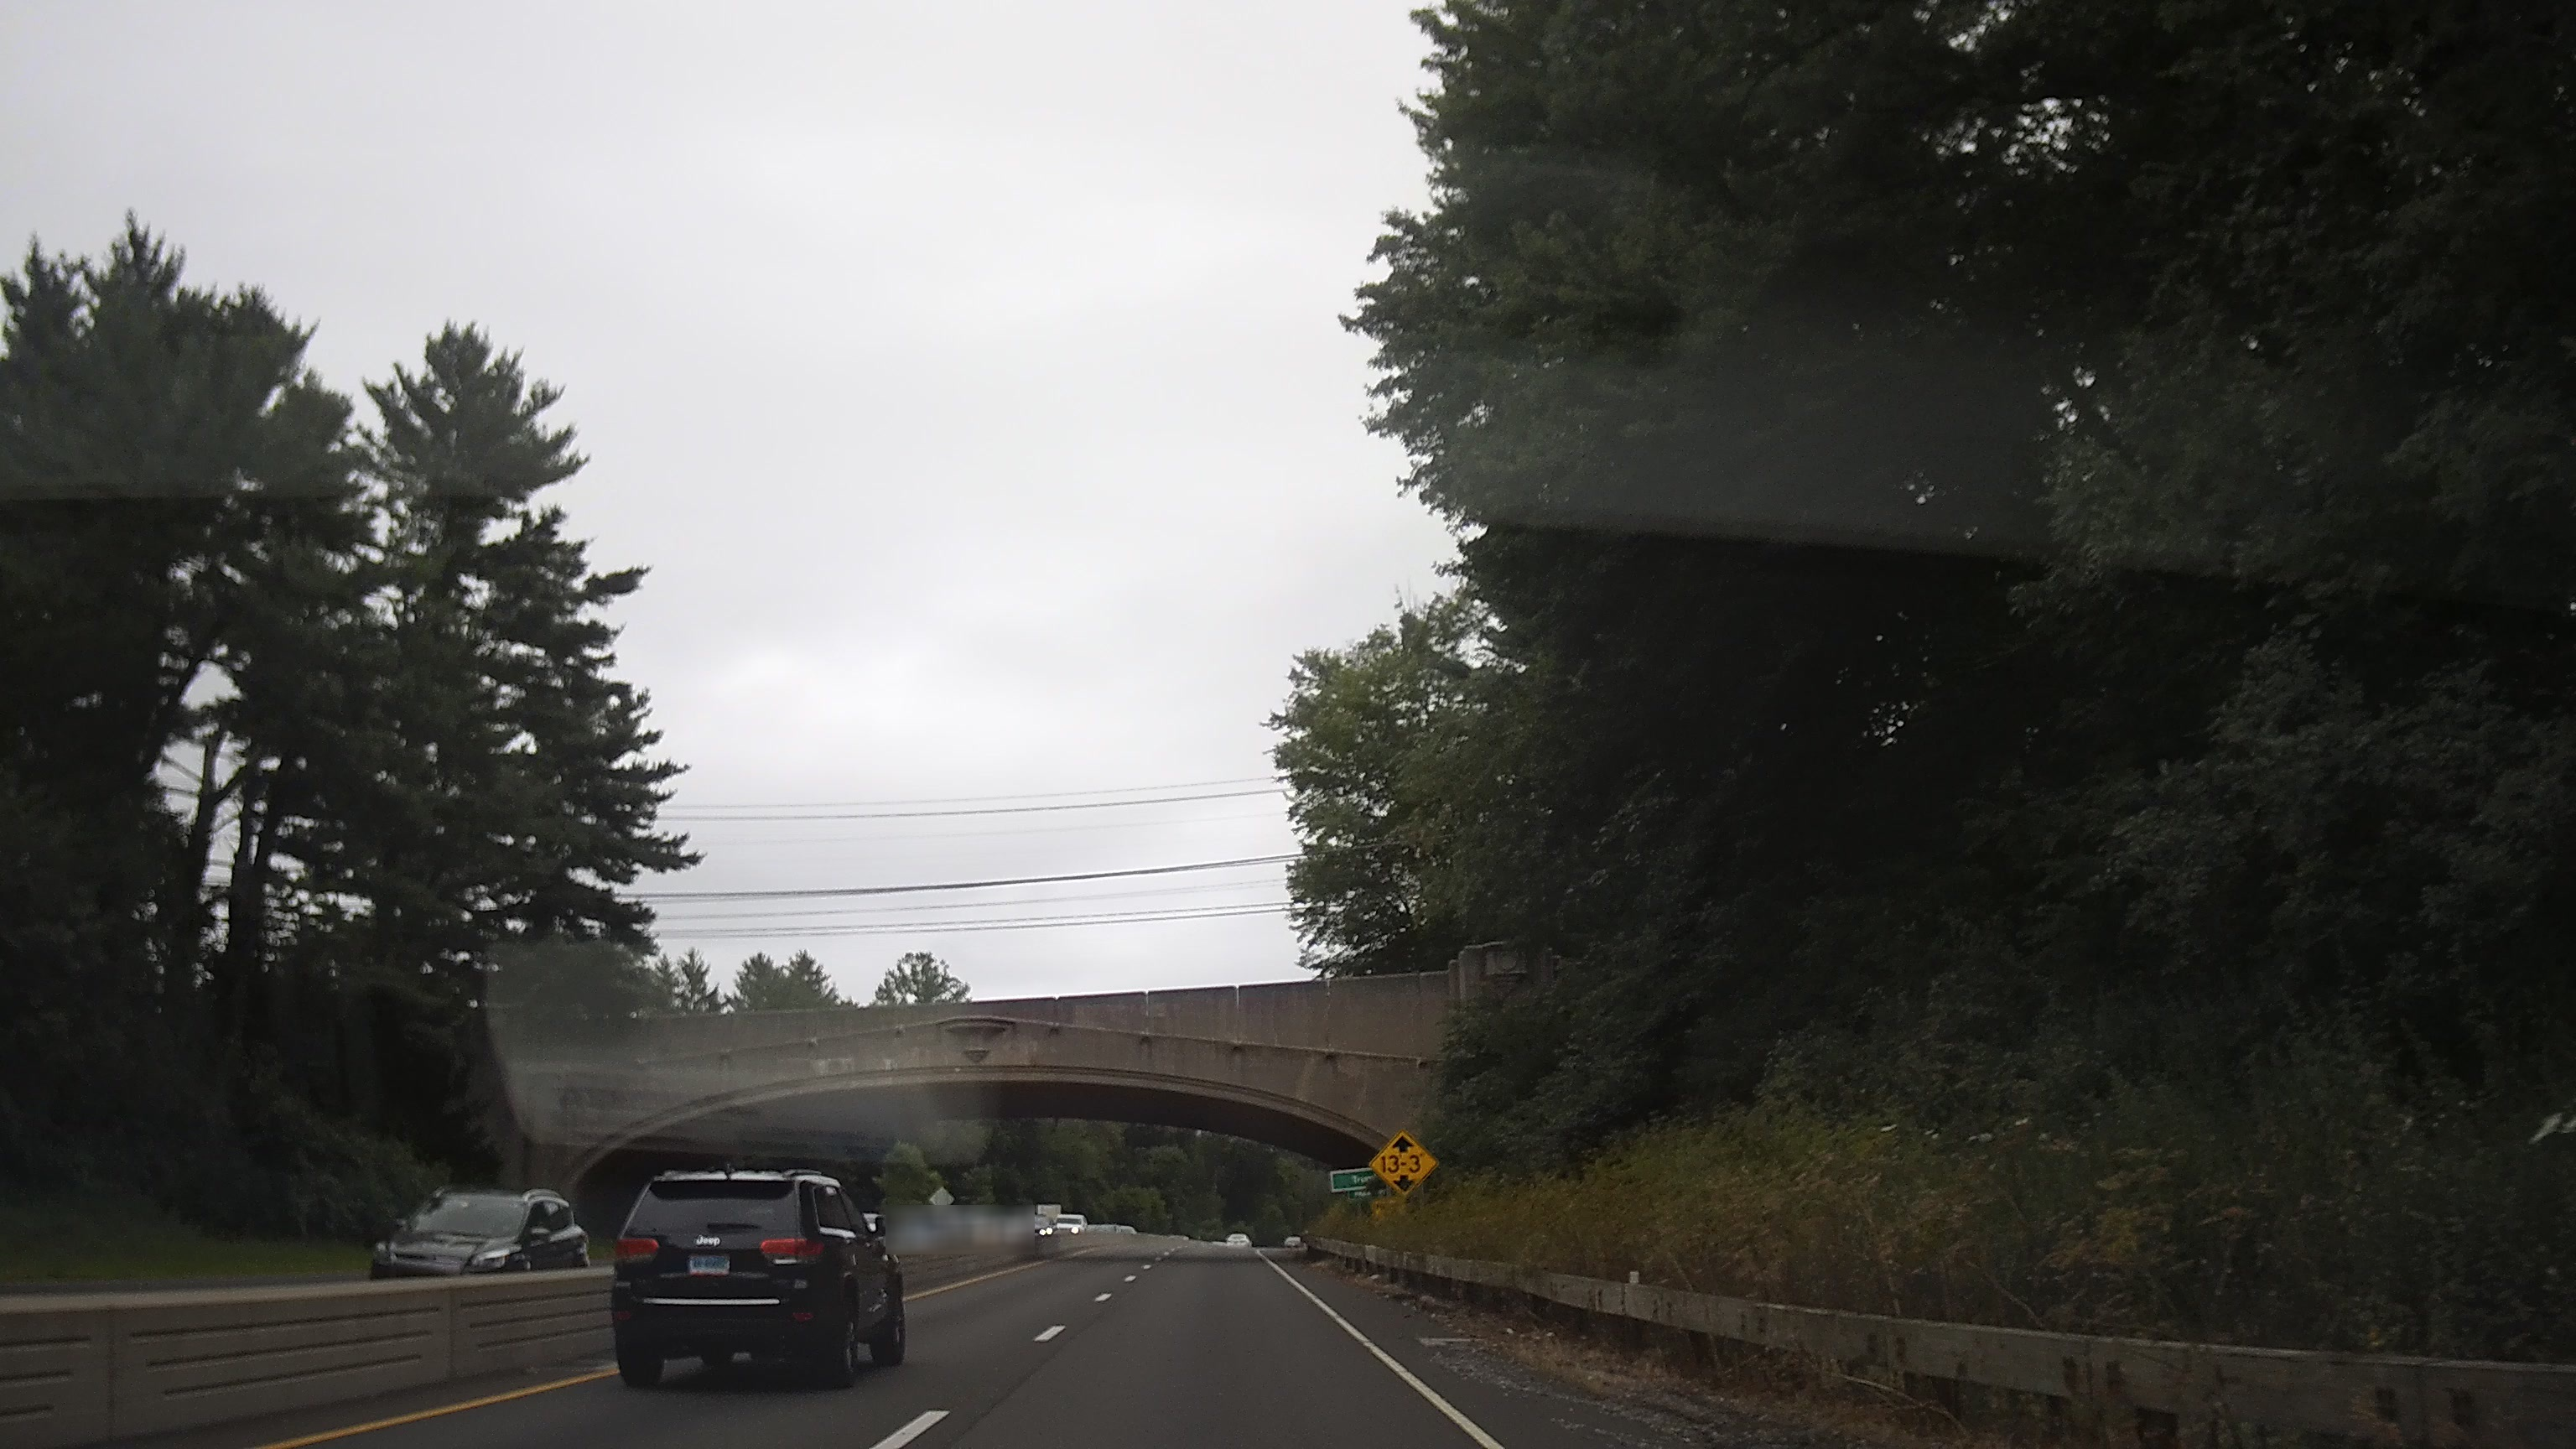low-clearance-sign: (1368, 1129, 1440, 1201)
